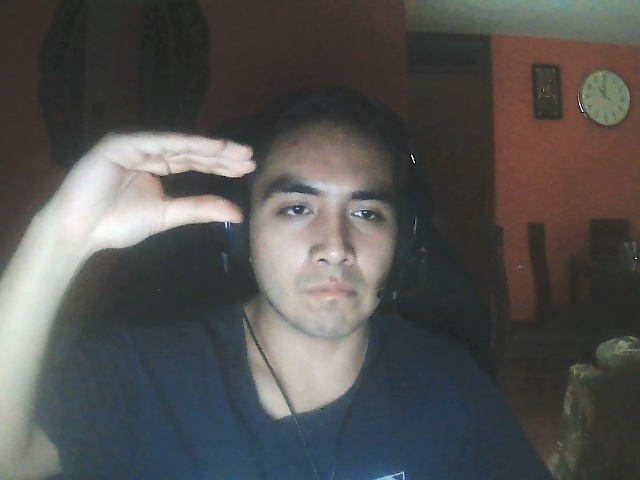no: (47, 118, 258, 254)
